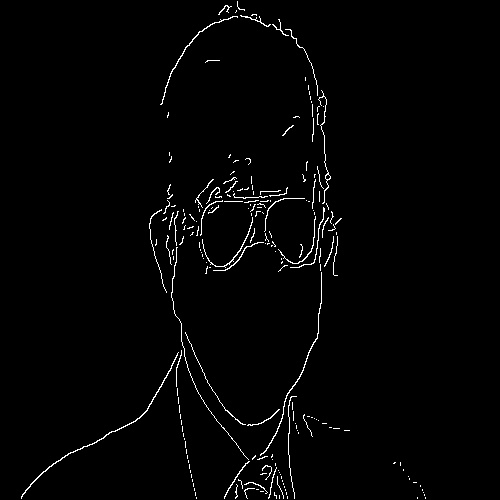mask: (179, 263, 320, 426)
